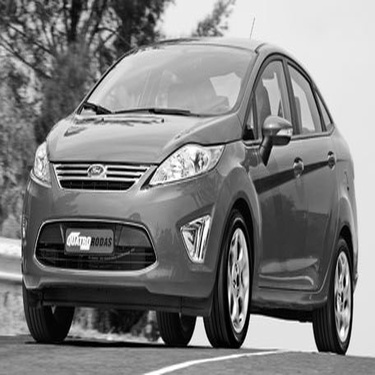car: (16, 29, 362, 359)
